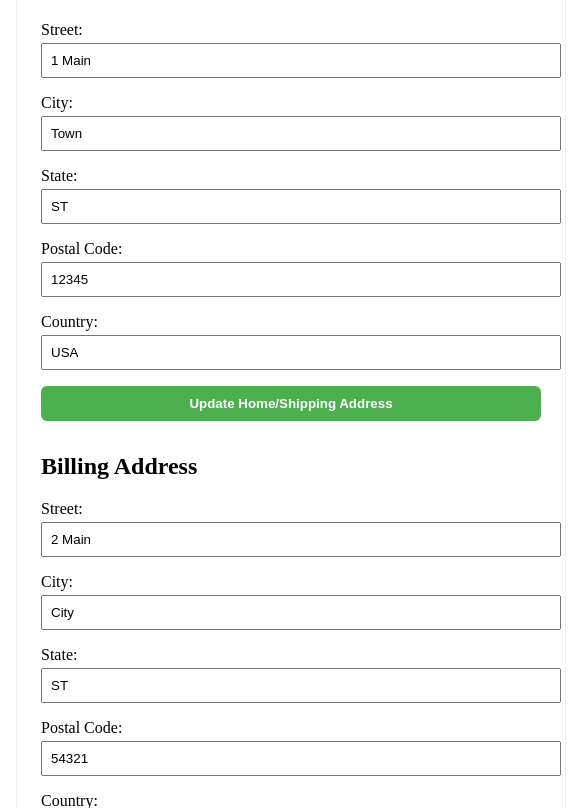
Test: Profile › submits home address update
(page scrolled)
Click the button "Update Home/Shipping Address": (291, 403) [41,386,541,421]
(page scrolled)
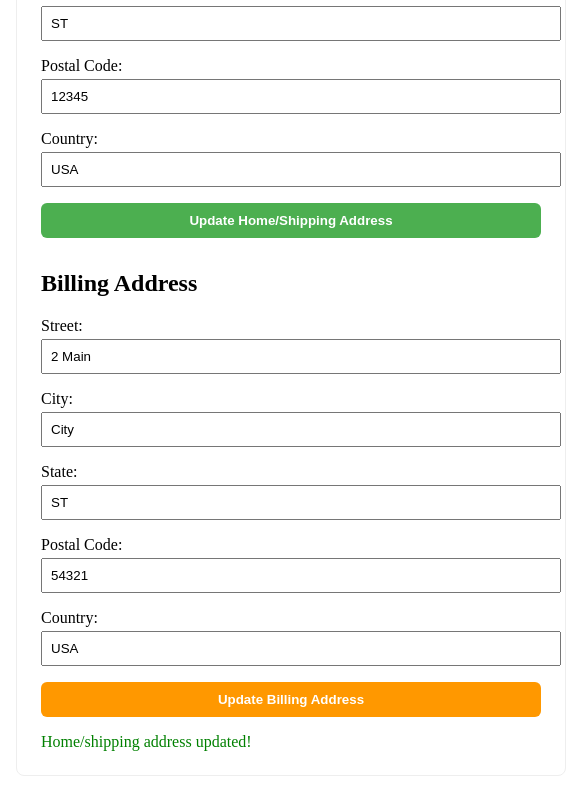
Expected: the text "Home/shipping address updated!" is shown, [41,733,252,750]
